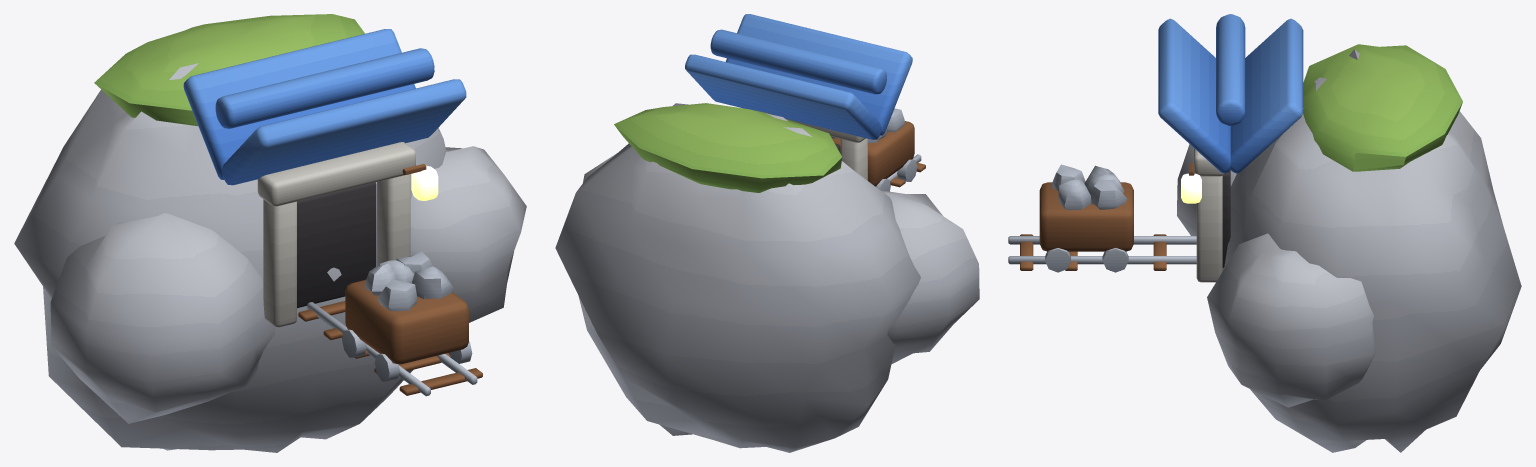
Rendered from mineB.glb.
The picture shows the model from 3 angles, left to right: view 1: azimuth 30°, elevation 25°; view 2: azimuth 150°, elevation 25°; view 3: azimuth 270°, elevation 25°; orthographic projection. The views are drawn at different scales.
Visible parts, largest first — view 1: mineB; view 2: mineB; view 3: mineB.
Boxes of the visible parts, box(x1,y1,x2,y2) form: mineB: box(14, 14, 526, 452); mineB: box(555, 14, 979, 452); mineB: box(1008, 14, 1521, 452).
Size of the model in its own units: 1.77 by 1.56 by 1.96.
1 material, 1 textured.
